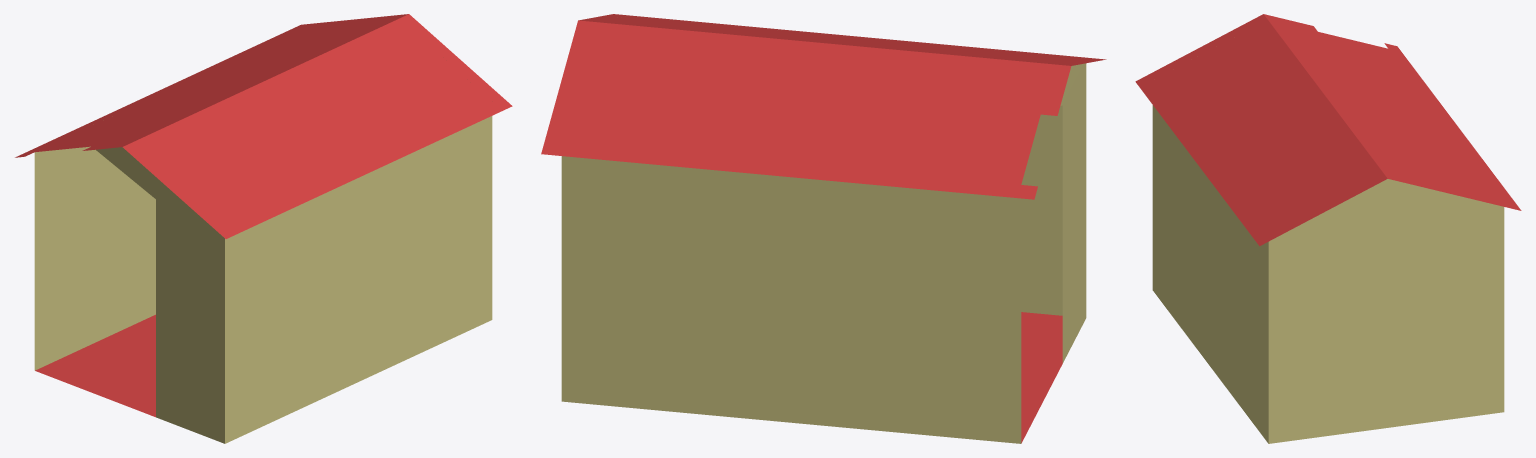
The picture shows the model from 3 angles, left to right: view 1: azimuth 30°, elevation 25°; view 2: azimuth 150°, elevation 25°; view 3: azimuth 270°, elevation 25°; orthographic projection. The views are drawn at different scales.
Size of the model in its own units: 16.97 by 13.85 by 10.1.
